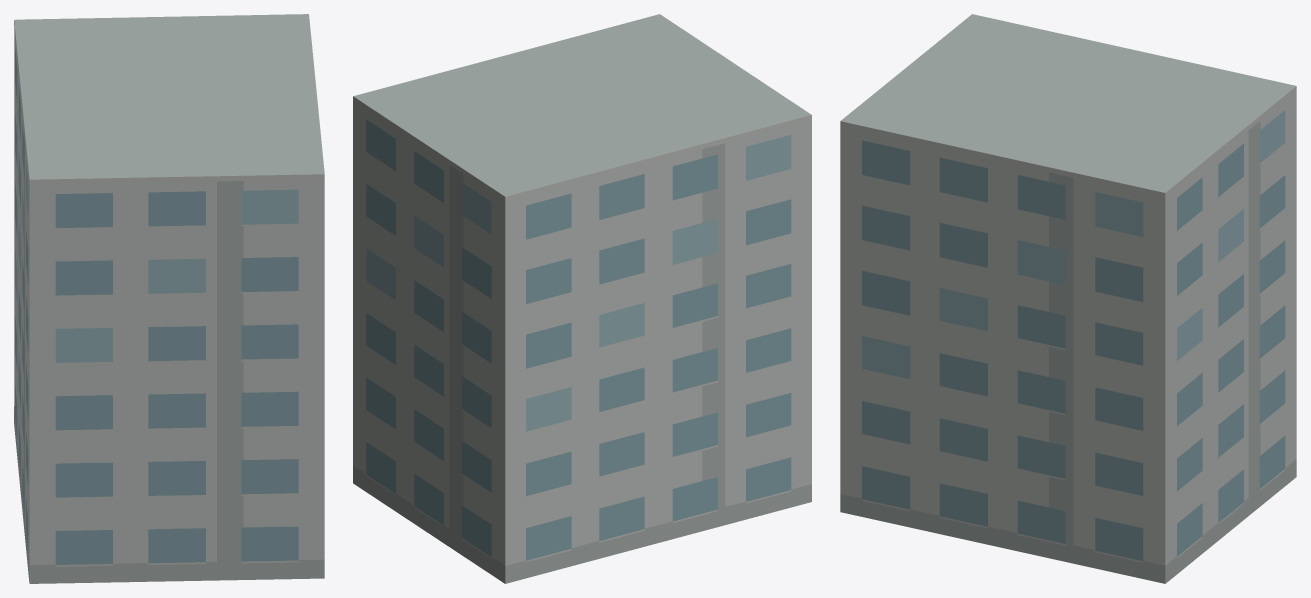
Rendered from survey-upis-32934126.glb.
The picture shows the model from 3 angles, left to right: view 1: azimuth 30°, elevation 25°; view 2: azimuth 150°, elevation 25°; view 3: azimuth 270°, elevation 25°; orthographic projection. The views are drawn at different scales.
Parts seen in each view (by area): view 1: survey-upis-32934126.tmp; view 2: survey-upis-32934126.tmp; view 3: survey-upis-32934126.tmp.
Boxes of the visible parts, left/top/right/bottom form: survey-upis-32934126.tmp: left=14, top=14, right=324, bottom=583; survey-upis-32934126.tmp: left=353, top=14, right=811, bottom=583; survey-upis-32934126.tmp: left=840, top=14, right=1296, bottom=583.
Bounding box in the file's own units: 18.32 × 18.65 × 19.74.
